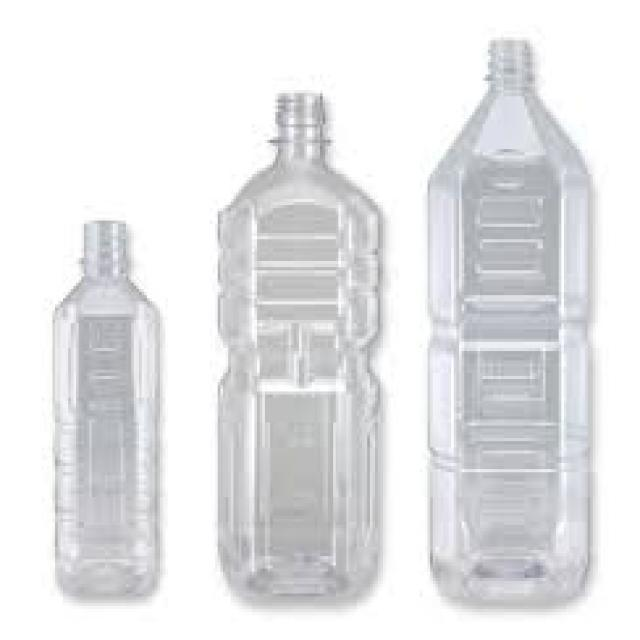Plastic: (424, 37, 596, 613), (211, 83, 386, 609), (55, 212, 164, 607)
